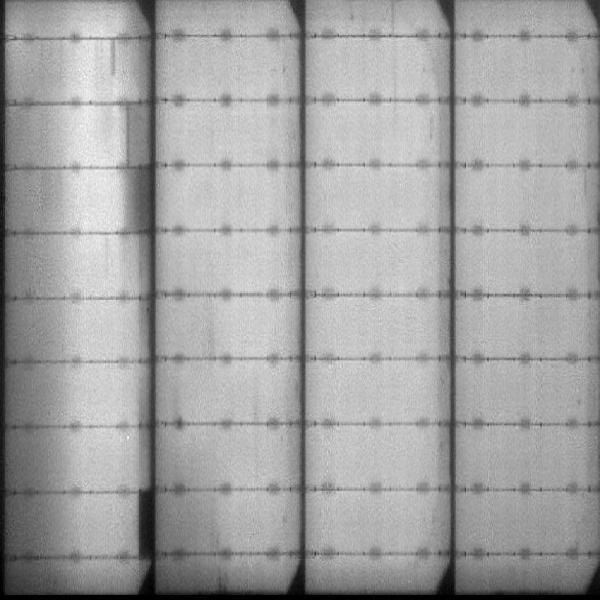black_border: (138, 490, 158, 564)
scratch: (122, 108, 137, 170), (106, 41, 120, 78)
